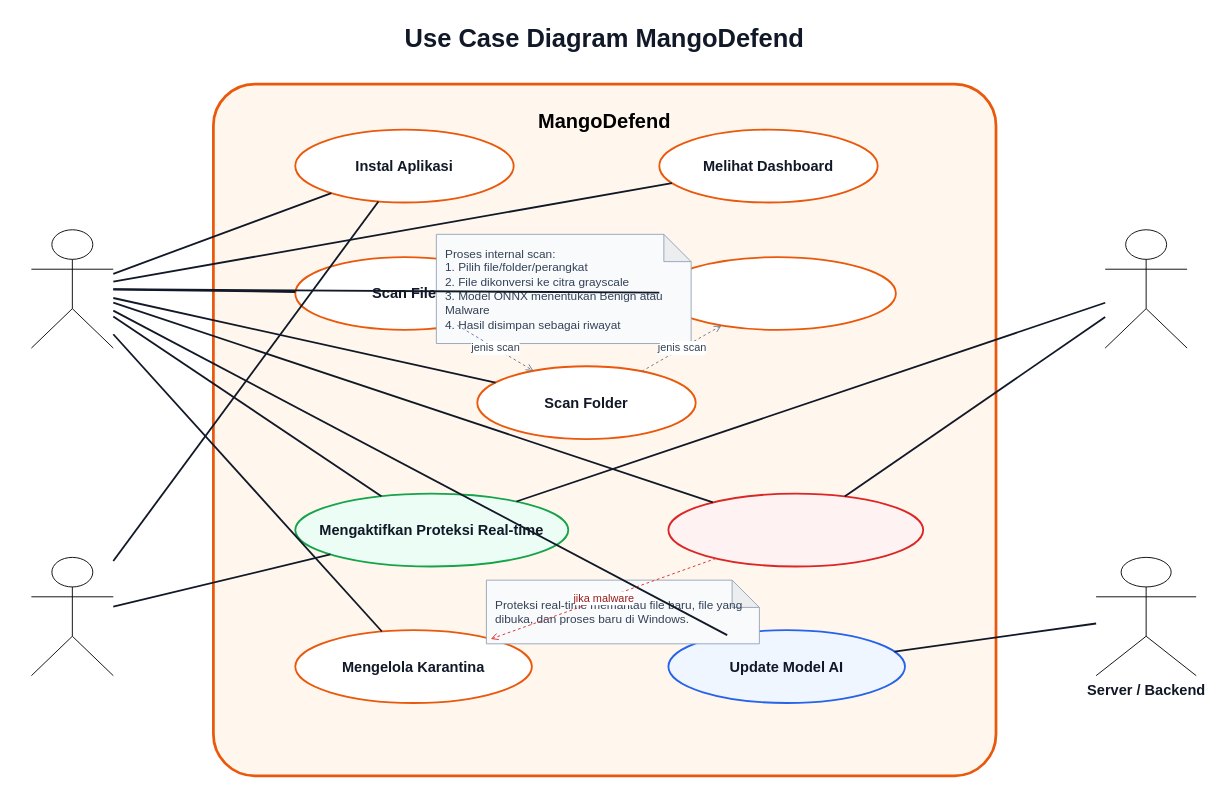
Image size: 1221x793. Some labels were removed from this diagram. Here are the shapes that lost their labels. From the top down, the box of each, then its label:
(30, 229, 113, 348): Pengguna
(658, 256, 896, 330): Scan Seluruh Perangkat
(1104, 229, 1187, 348): Sistem Windows
(667, 492, 924, 567): Menerima Peringatan Malware
(30, 556, 113, 676): Admin Windows
